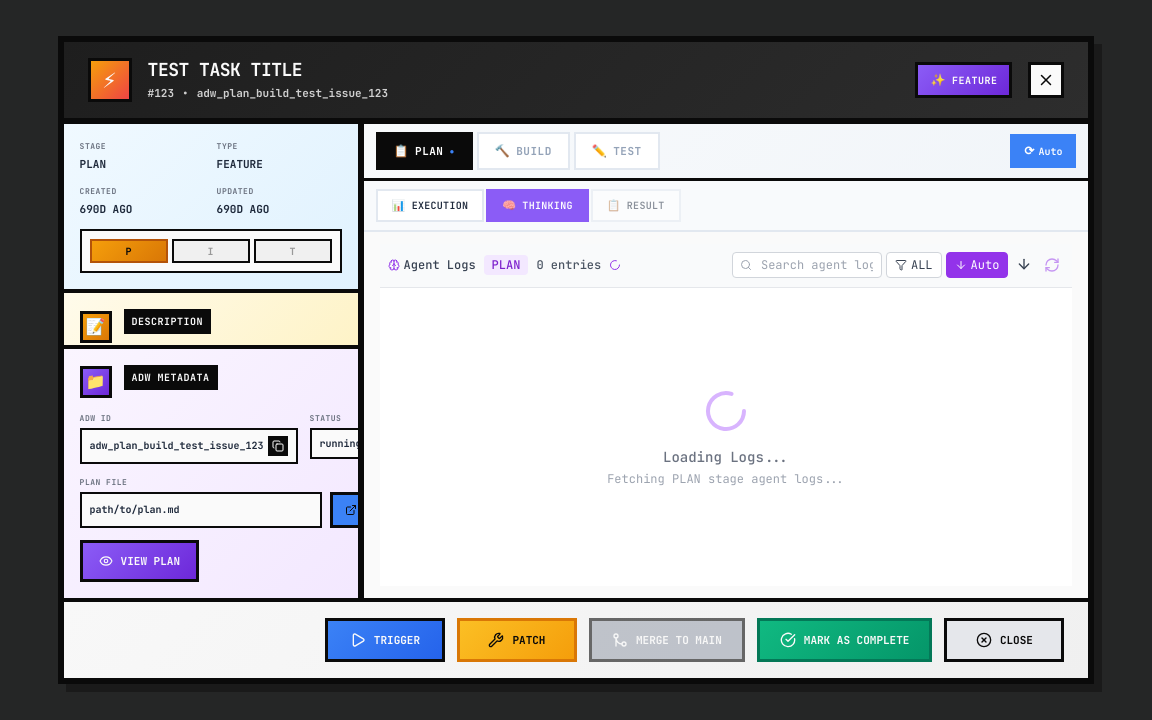
Scenario: CardExpandModal Component › Plan View Mode › should show loading state while fetching plan
Click the button "VIEW PLAN".
click(139, 561)  # box [80,540,199,582]
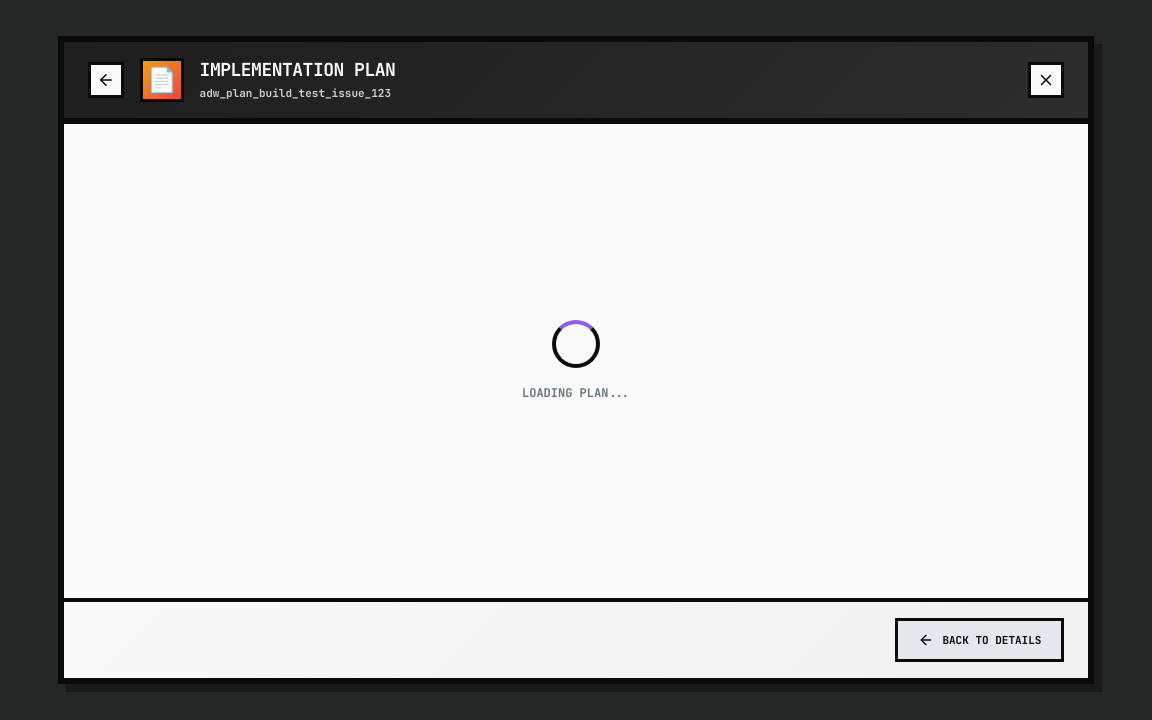
Expected: the text "Loading Plan..." is shown, [522,384,630,402]
